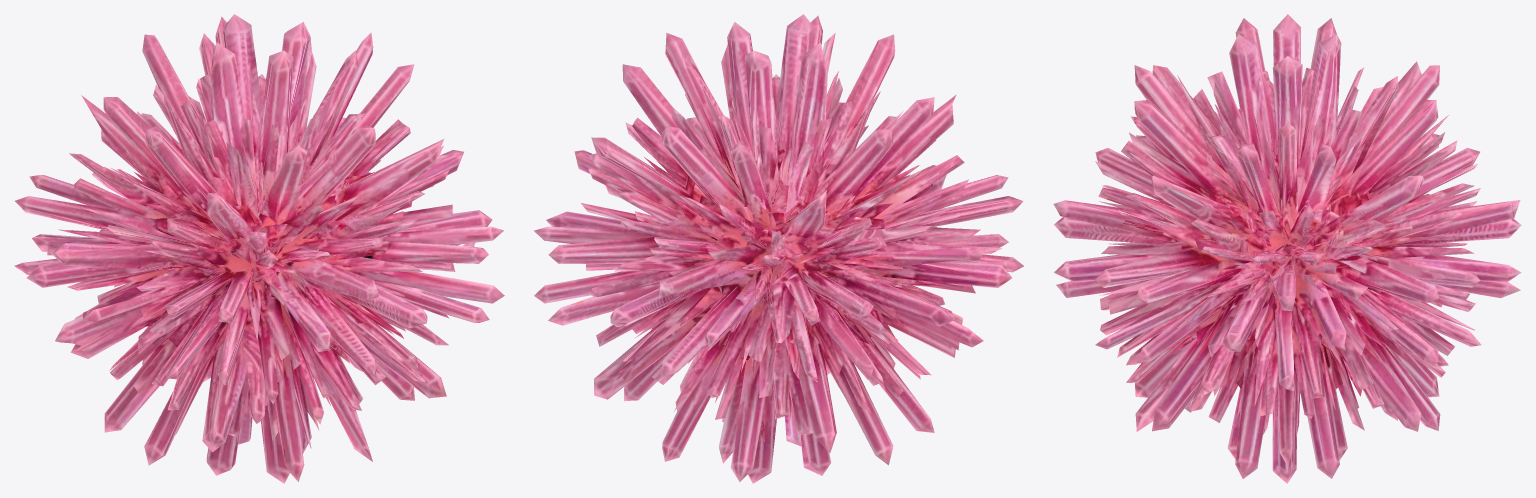
Rendered from crystal-cluster-pink.glb.
3 renders of one model, left to right at view 1: azimuth 30°, elevation 25°; view 2: azimuth 150°, elevation 25°; view 3: azimuth 270°, elevation 25°, orthographic.
Parts seen in each view (by area): view 1: Mesh1.0; view 2: Mesh1.0; view 3: Mesh1.0.
Boxes of the visible parts, box(x1,y1,x2,y2) form: Mesh1.0: box(14, 14, 504, 483); Mesh1.0: box(534, 14, 1023, 483); Mesh1.0: box(1053, 14, 1521, 483).
Size of the model in its own units: 1.9 by 1.91 by 1.89.
1 material, 1 textured.
